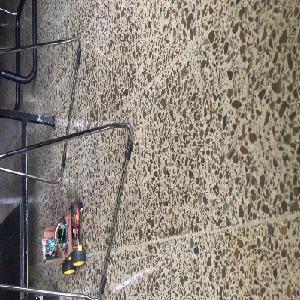Robot: (43, 200, 85, 274)
